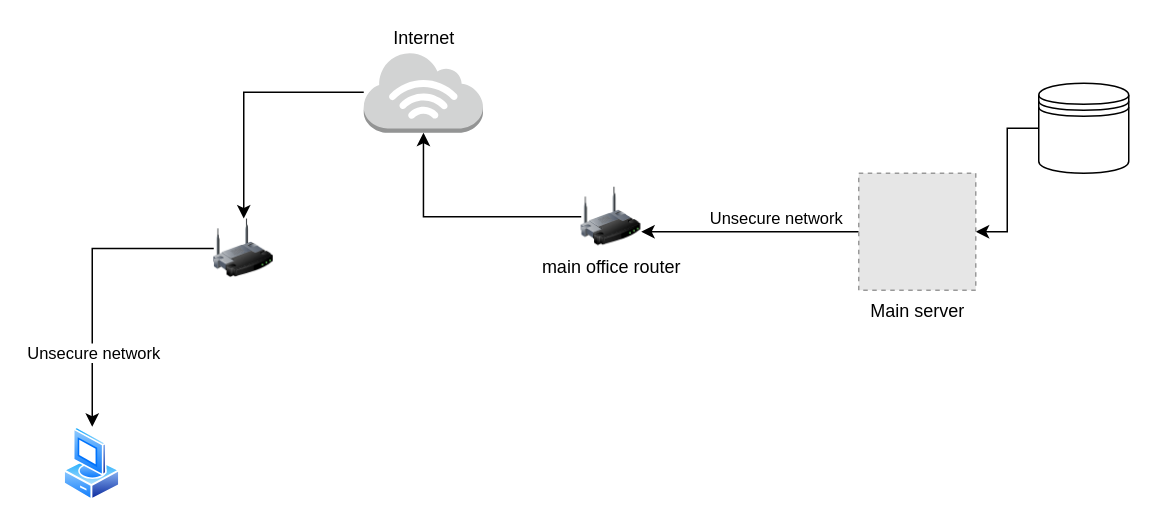
Image size: 1155x527. Some labels were removed from this diagram. Grey dashed boxes stand in for pictures. The box of each missing label's shape, as (x1, y1, x2, y2) in pixels:
client router: (213, 218, 273, 278)
Database: (1037, 82, 1129, 173)
